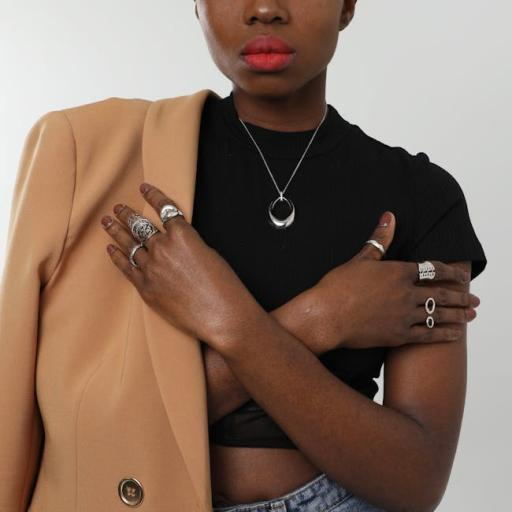lipstick: (242, 36, 294, 71)
